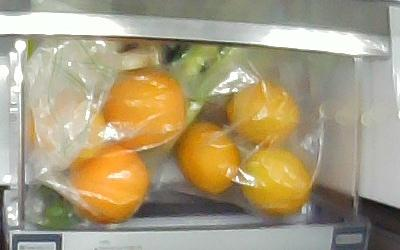orange_vinyl: (101, 66, 185, 151), (66, 143, 148, 224), (240, 147, 313, 215), (226, 80, 300, 147), (176, 121, 242, 194)
